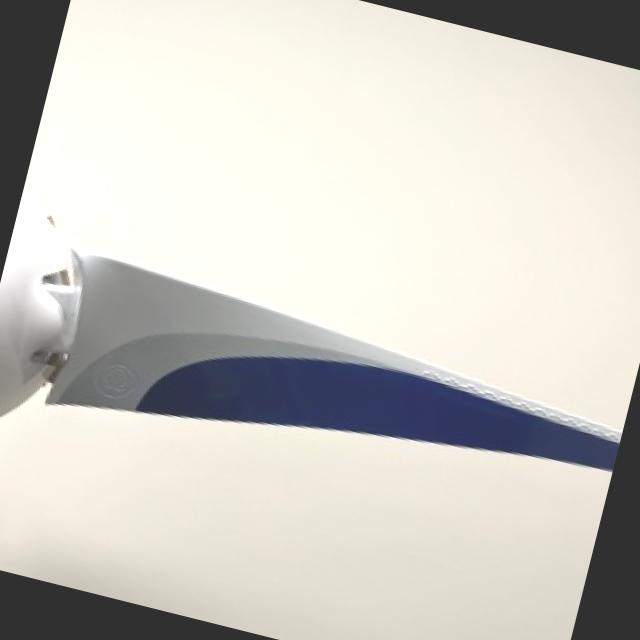healthy: (0, 193, 622, 470)
